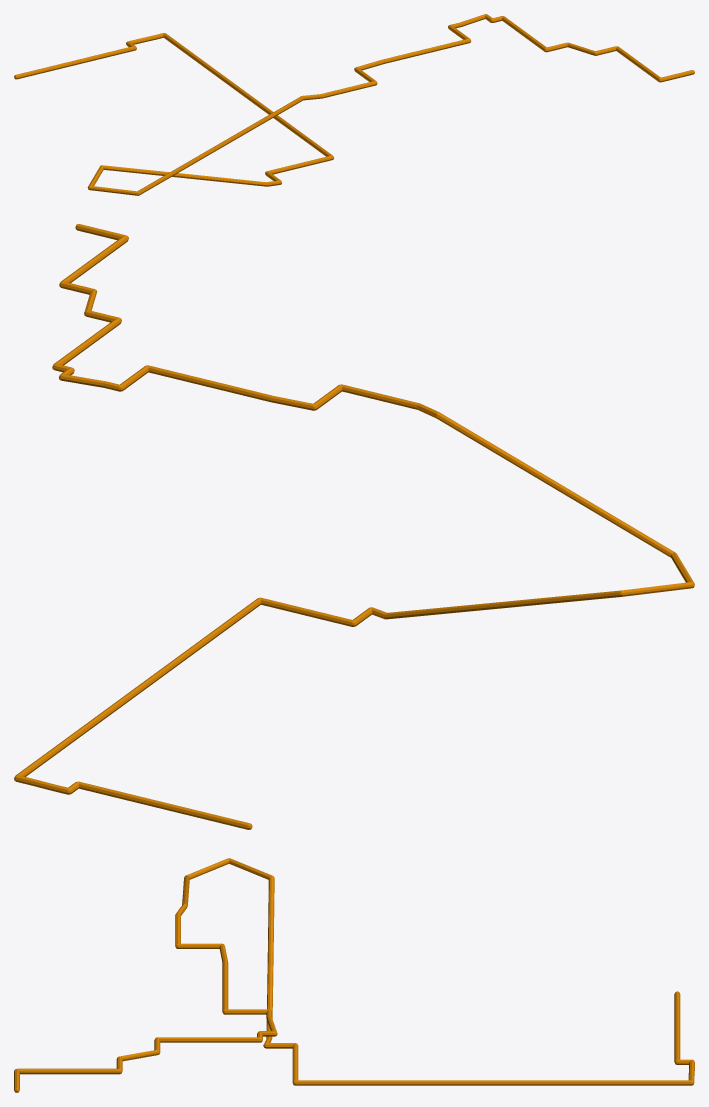
3 renders of one model, top to bottom at view 1: azimuth 30°, elevation 25°; view 2: azimuth 150°, elevation 25°; view 3: azimuth 270°, elevation 25°, orthographic. The views are drawn at different scales.
Bounding box in the file's own units: 2406 × 520 × 2321.
